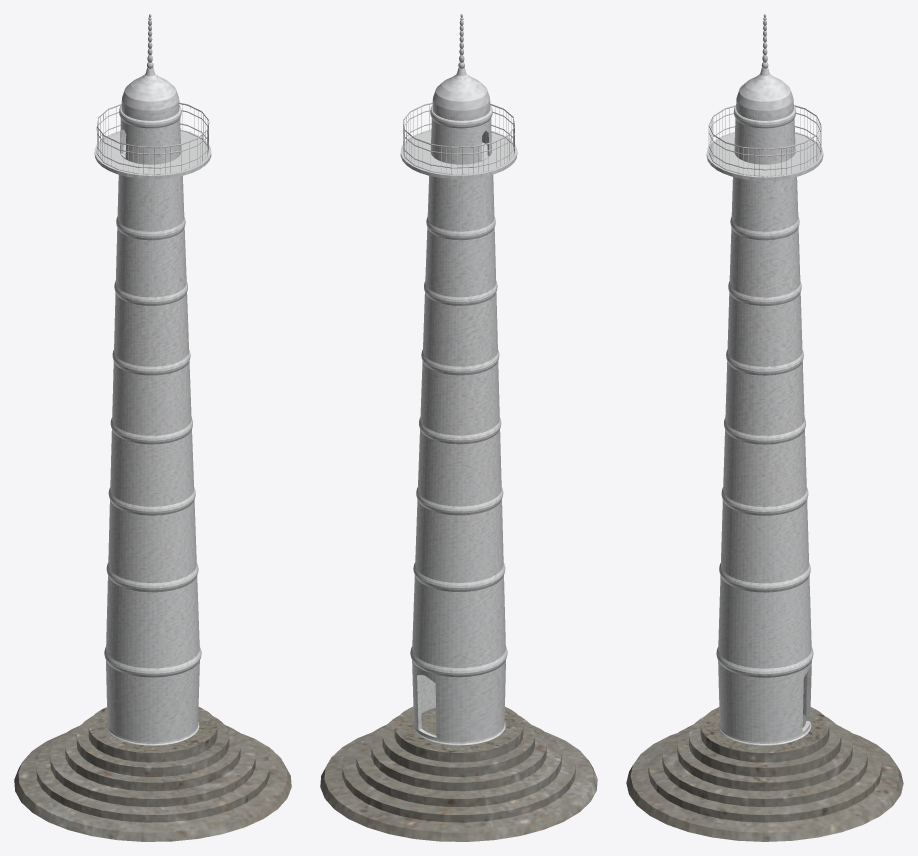
3 renders of one model, left to right at view 1: azimuth 30°, elevation 25°; view 2: azimuth 150°, elevation 25°; view 3: azimuth 270°, elevation 25°, orthographic.
Visible parts, largest first — view 1: body.001, Base, fence_lower, fence_upper; view 2: body.001, Base, fence_lower, fence_upper; view 3: body.001, Base, fence_lower, fence_upper.
Boxes of the visible parts, <box> form: body.001: <box>104,67,201,745</box>; Base: <box>14,707,291,841</box>; fence_lower: <box>94,129,211,179</box>; fence_upper: <box>96,102,209,174</box>; body.001: <box>410,67,507,745</box>; Base: <box>320,707,597,841</box>; fence_lower: <box>400,129,517,179</box>; fence_upper: <box>403,102,514,174</box>; body.001: <box>716,67,813,745</box>; Base: <box>626,707,903,841</box>; fence_lower: <box>706,132,823,180</box>; fence_upper: <box>708,105,821,176</box>.
Size of the model in its own units: 100 by 307 by 100.
